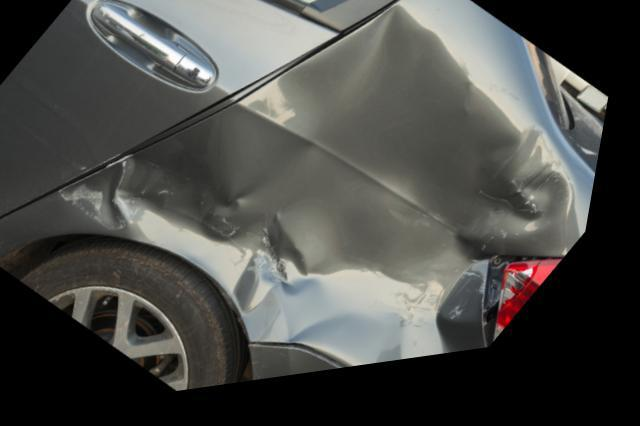dent: (70, 20, 577, 380)
lamp broken: (505, 277, 574, 361)
